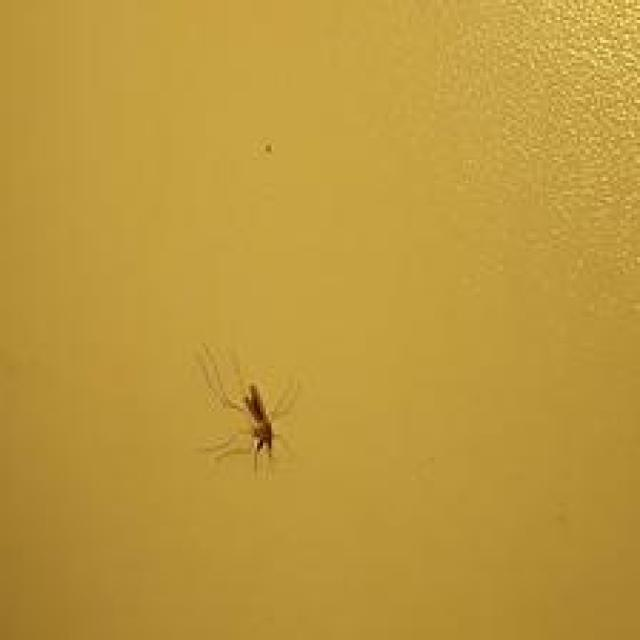Culex: (196, 341, 301, 476)
